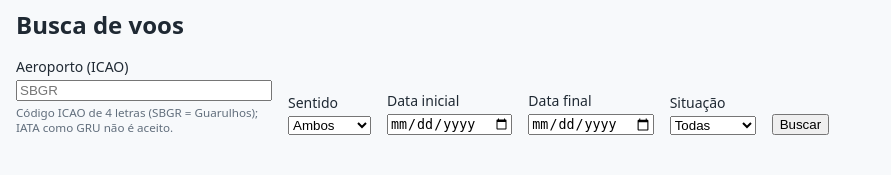
Test: Tela de busca › Busca sem aeroporto: avisa e não consulta a API
This screenshot has width=891, height=175.
Click the button "Buscar" at (800, 124), box [772,114,829,135]
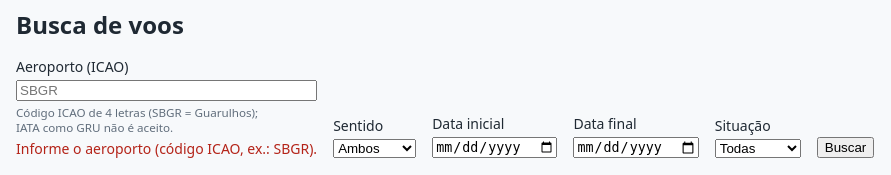
expect the message shows "Informe o aeroporto": met, box [16,139,317,158]
